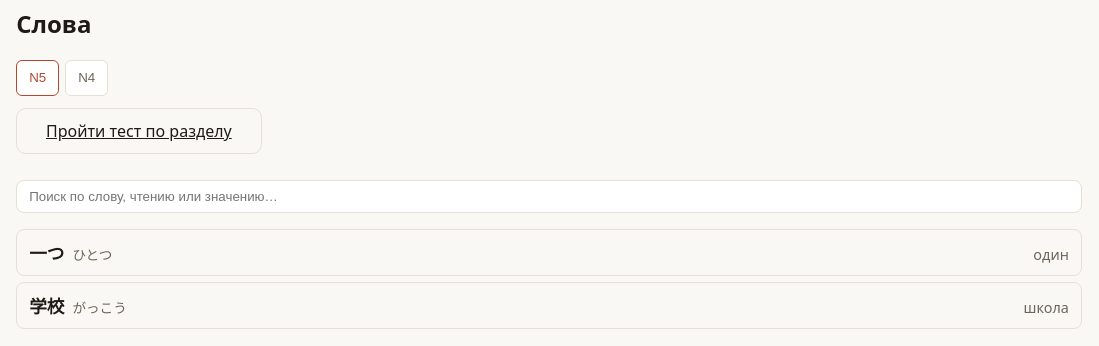
VocabListScreen › filters by search query
Step 1. Type "школа" into the search field → (549, 197), box [16,180,1082,213]
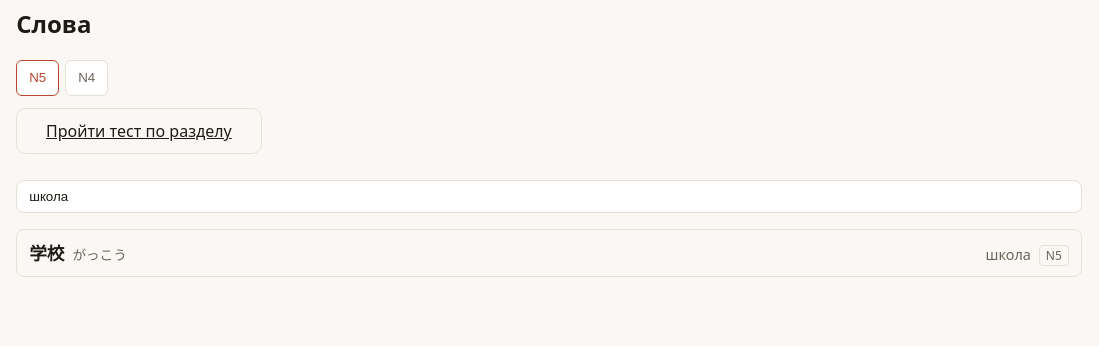
expect the text "школа" is shown: met, box [986,245,1031,264]
expect the link "один" is gone: met
